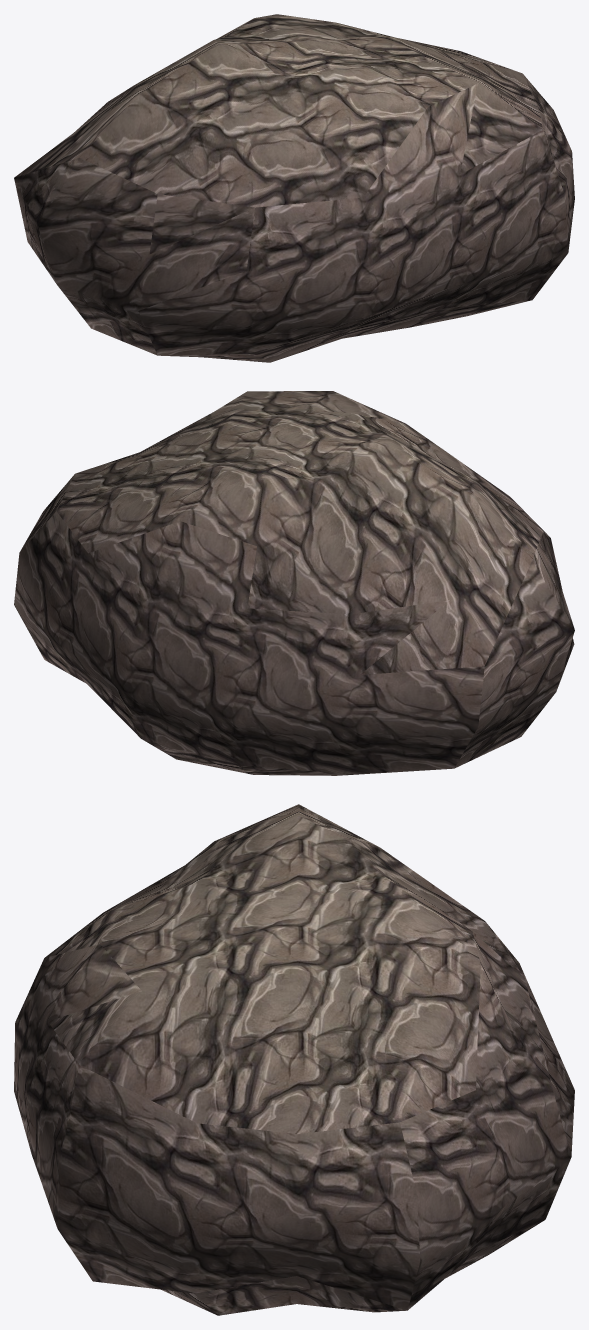
File: rock_1.glb
3 views of the same model, one above another, from view 1: azimuth 30°, elevation 25°; view 2: azimuth 150°, elevation 25°; view 3: azimuth 270°, elevation 25° (orthographic). The views are drawn at different scales.
Visible parts, largest first — view 1: Rock; view 2: Rock; view 3: Rock.
Boxes of the visible parts, x1,y1,x2,y2 form: Rock: (14,14,574,362); Rock: (14,391,574,775); Rock: (14,804,574,1315).
Bounding box in the file's own units: 2.9 × 1.56 × 2.15.
1 material, 1 textured.
